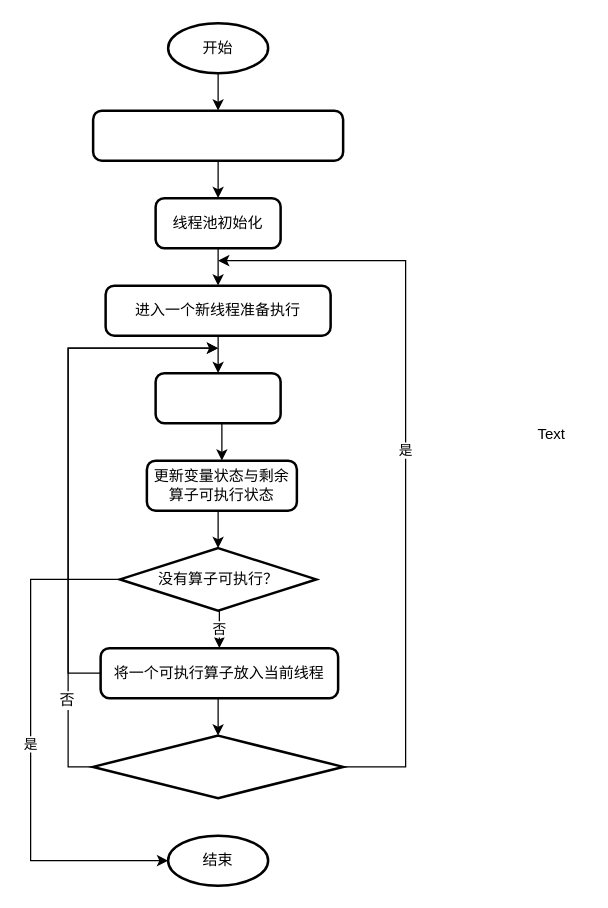
The diagram is 608 pixels wide and 908 high, and some of its shapes have lost their labels. Here are the shapes that lost their labels. From the top down, the centre of each, then its label:
pixel 217 135: 更新算子和变量的状态以及依赖
pixel 217 397: 执行算子
pixel 217 766: 还有剩余可执行算子？
